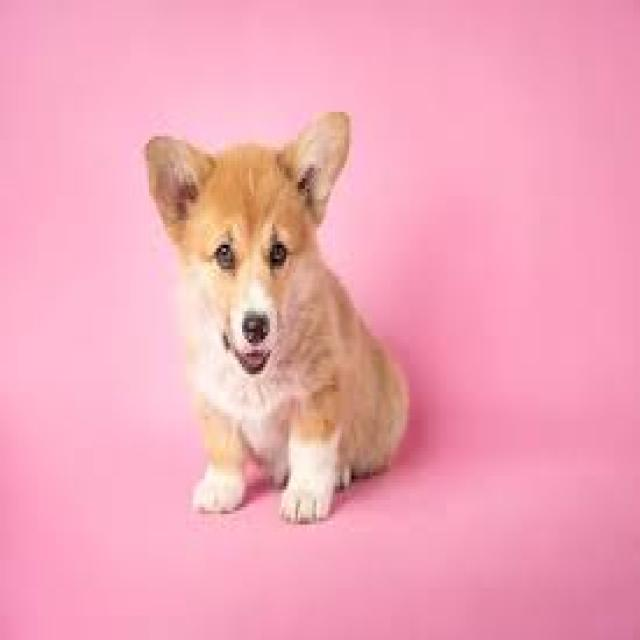CORGI: (129, 100, 413, 538)
